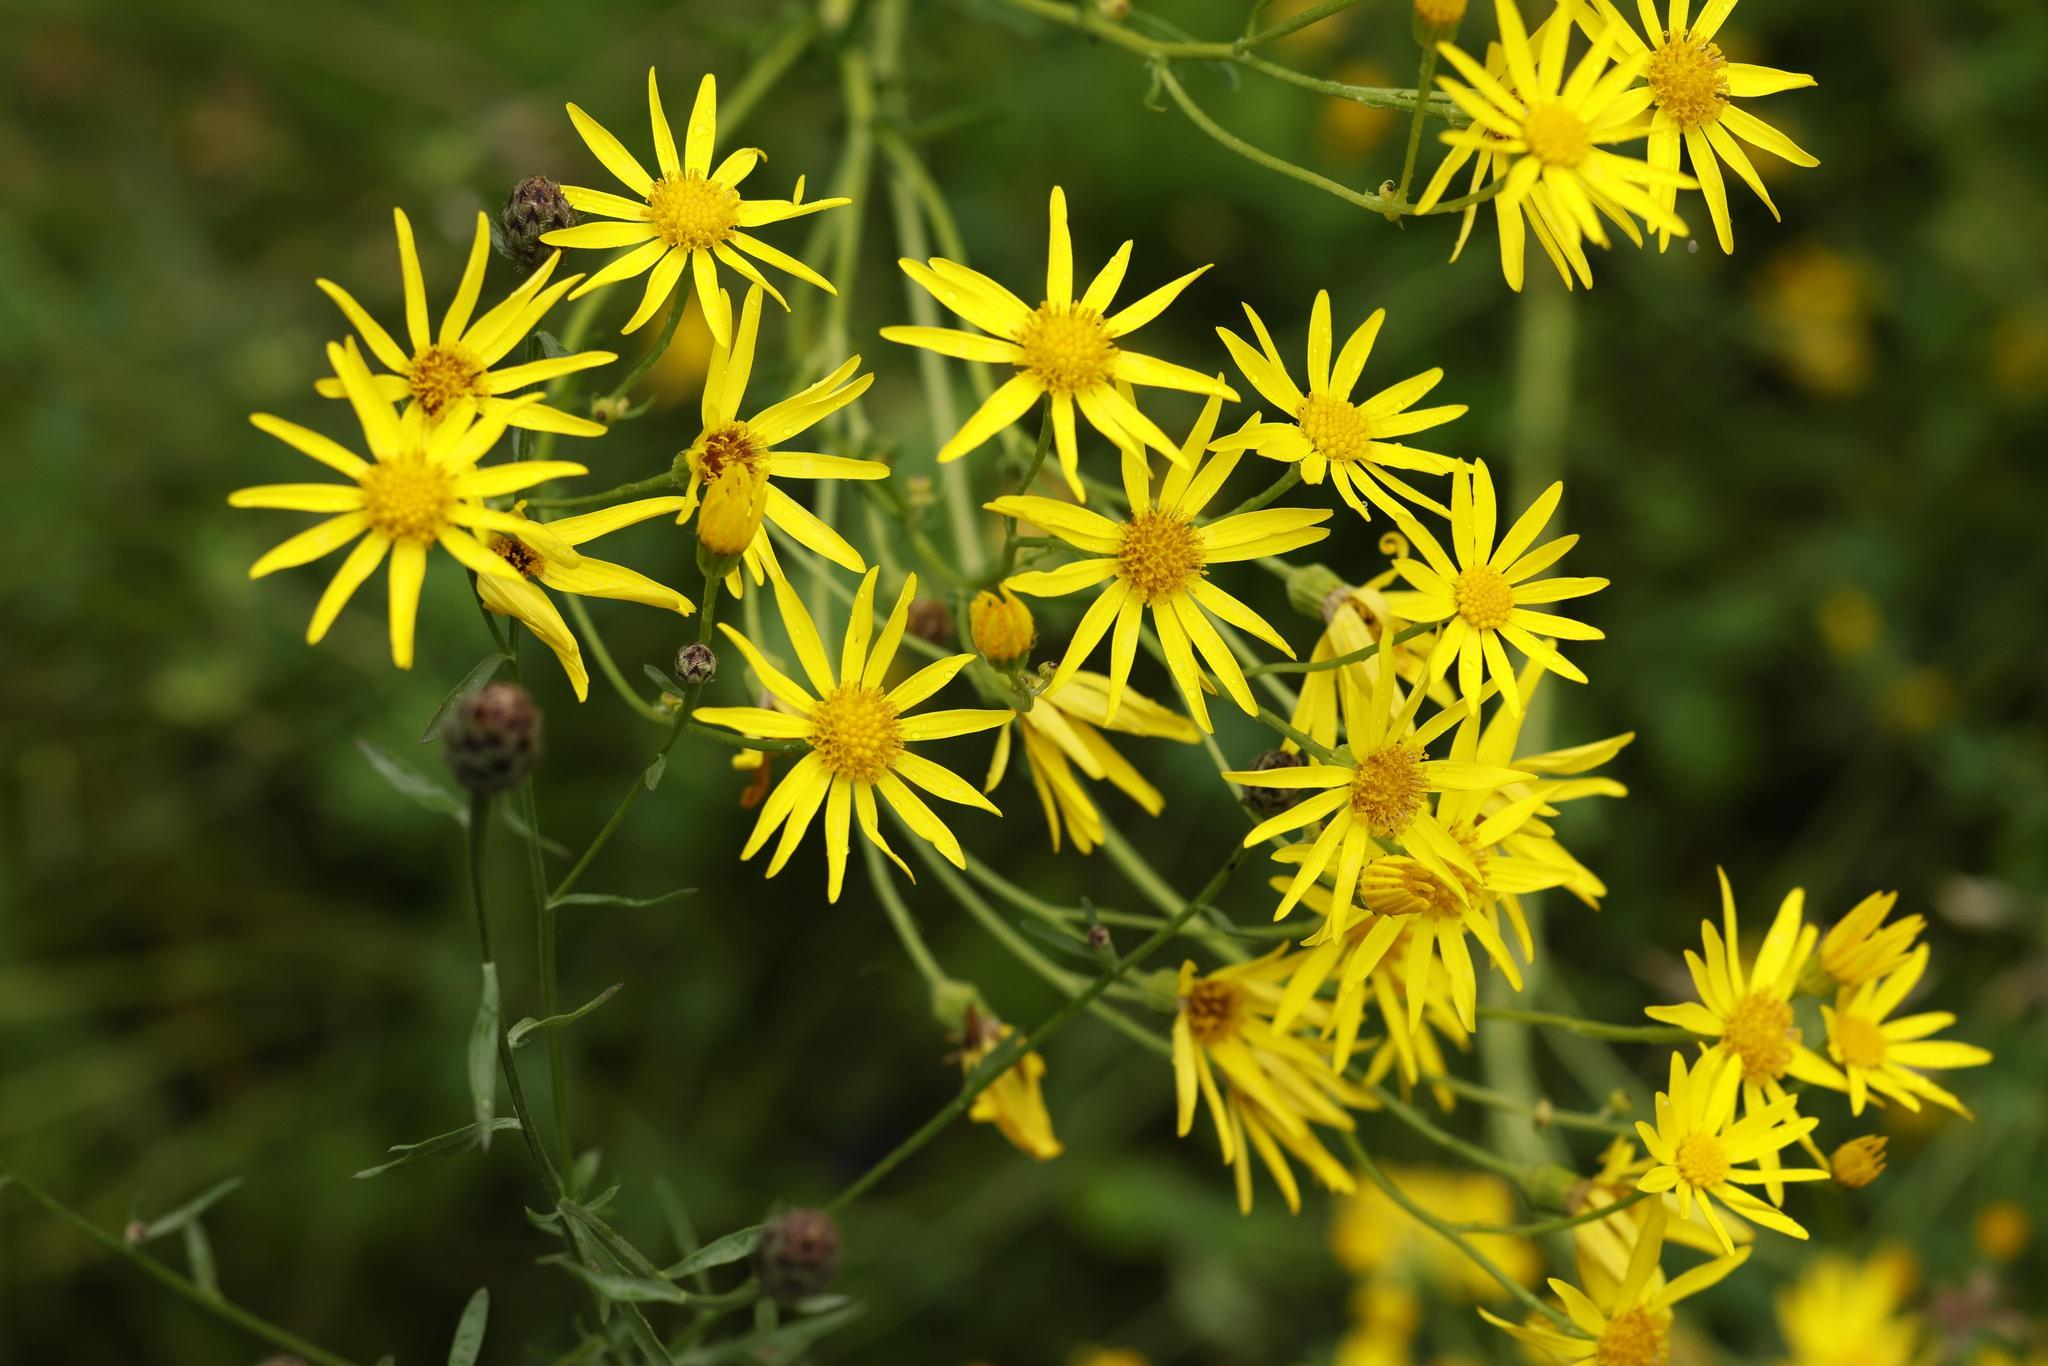Jacobaea vulgaris: (212, 0, 1986, 1366)
